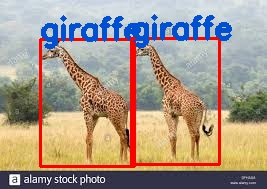giraffe: (40, 38, 134, 166), (131, 38, 219, 164)
